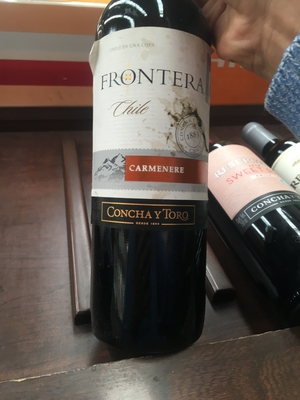frontera carmenere: (86, 6, 228, 372)
